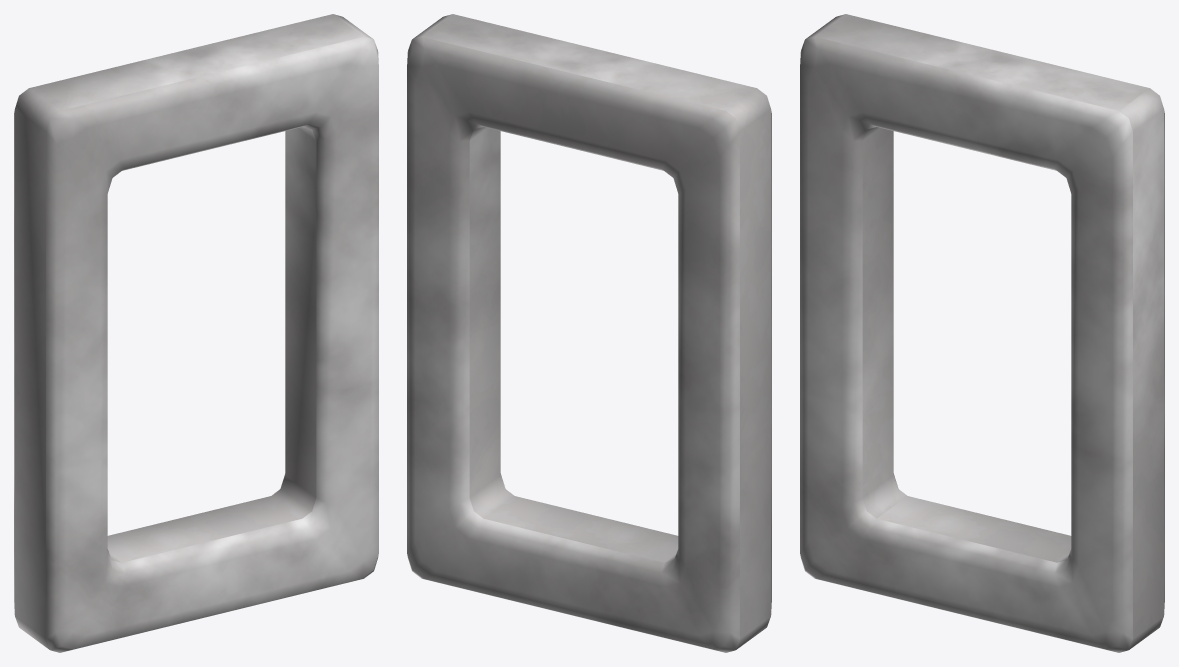
The model's file is Chain_Mesh01.fbx.
The picture shows the model from 3 angles, left to right: view 1: azimuth 30°, elevation 25°; view 2: azimuth 150°, elevation 25°; view 3: azimuth 330°, elevation 25°; orthographic projection.
Parts seen in each view (by area): view 1: Chain_Model01; view 2: Chain_Model01; view 3: Chain_Model01.
Boxes of the visible parts, box(x1,y1,x2,y2) form: Chain_Model01: box(14, 14, 378, 652); Chain_Model01: box(407, 14, 771, 652); Chain_Model01: box(800, 14, 1164, 652).
Size of the model in its own units: 2.03 by 3.16 by 0.4655.
